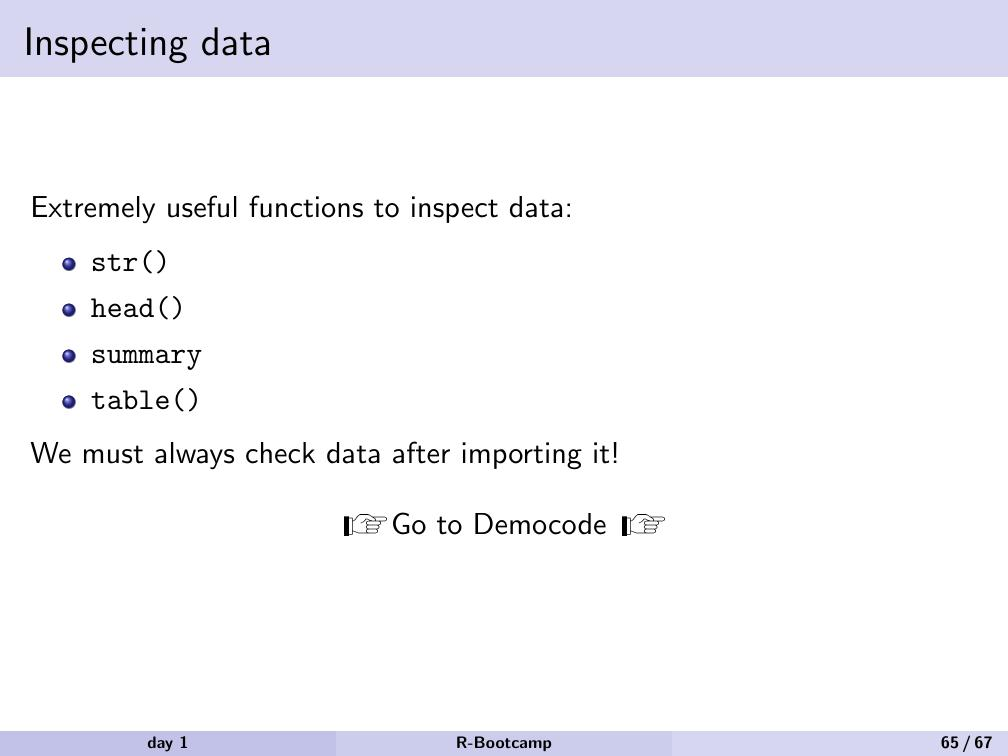Title: (15, 17, 277, 72)
